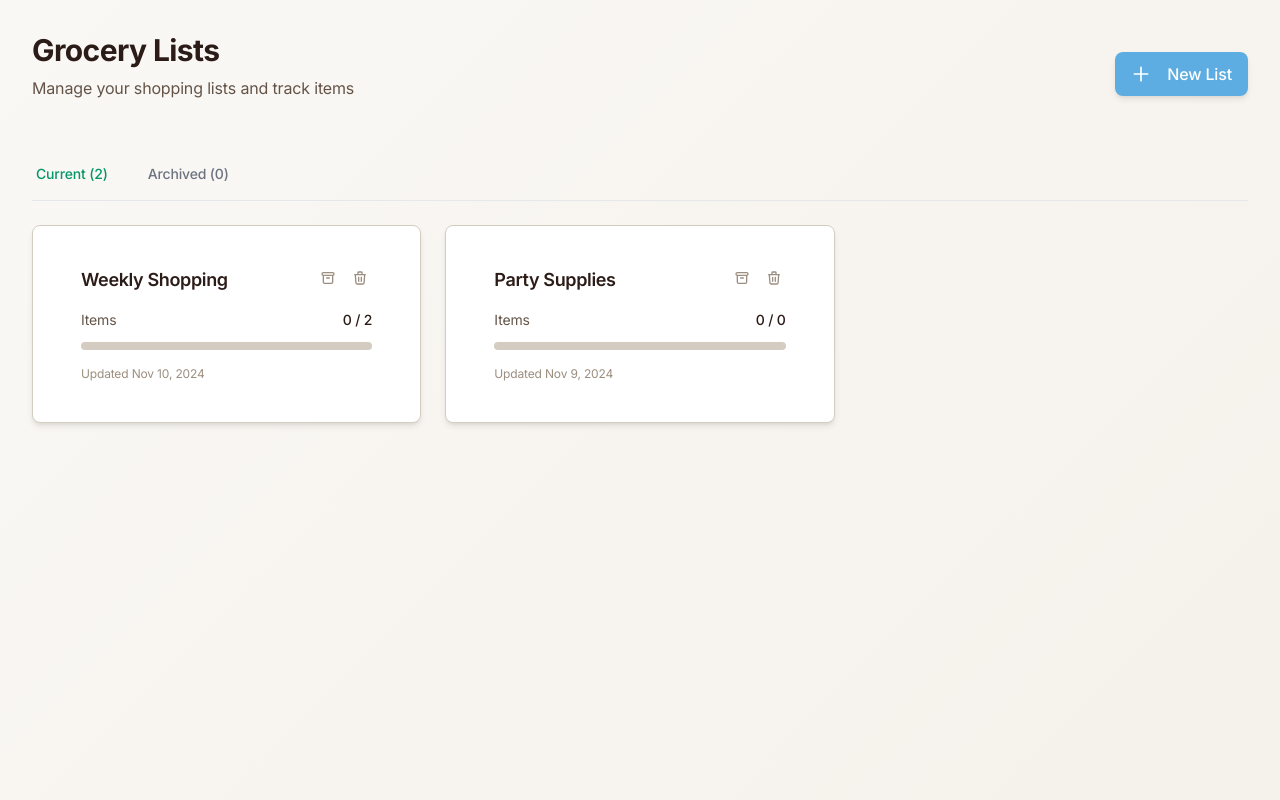
Test: GroceryListsPage › Delete functionality › should close confirmation modal when cancel is clicked
This screenshot has width=1280, height=800.
Expected: the heading "Grocery Lists" is shown, 32,32 -> 219,68
Expected: the heading "Weekly Shopping" is shown, 81,269 -> 228,290
Click the button named "delete list": [360, 278] box 348,266 -> 372,290
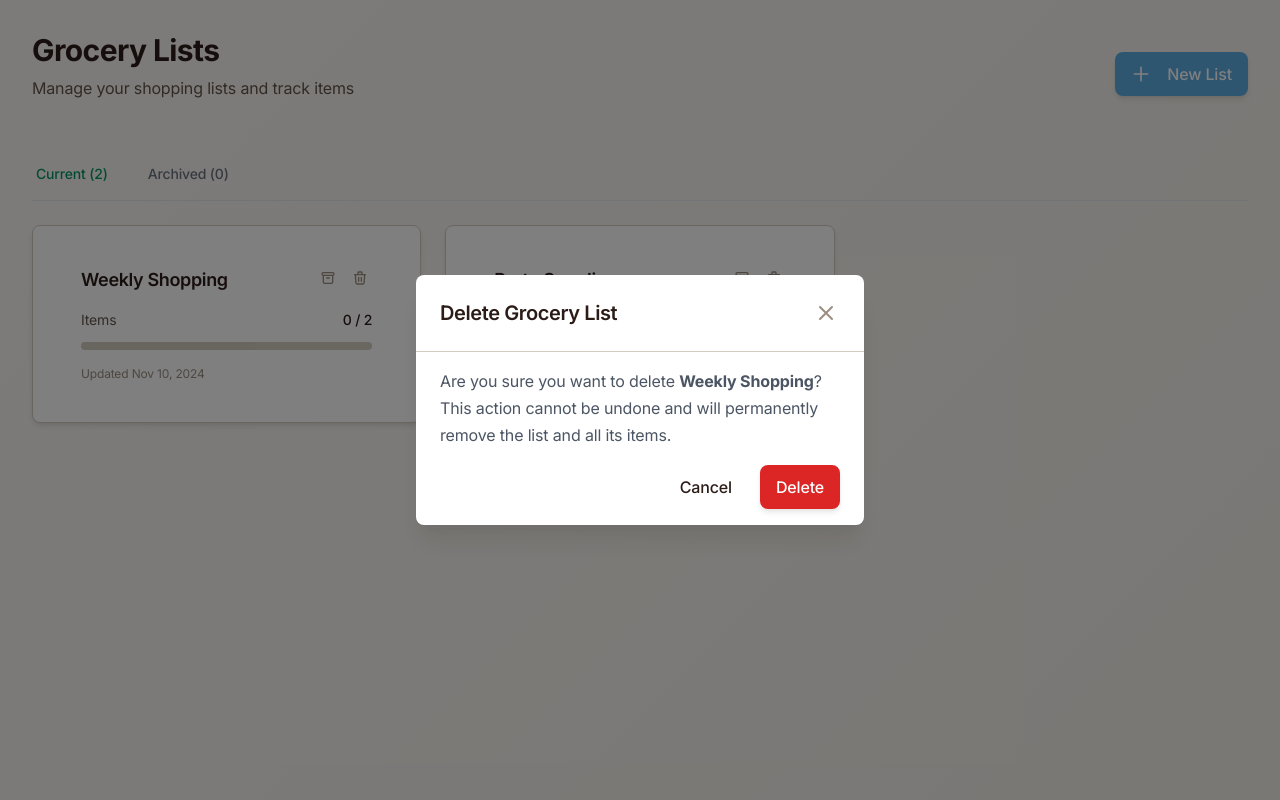
Expected: the heading "Delete Grocery List" is shown, 440,299 -> 617,327
Click cancel
Click the button "Cancel": [706, 487] box 664,465 -> 748,509
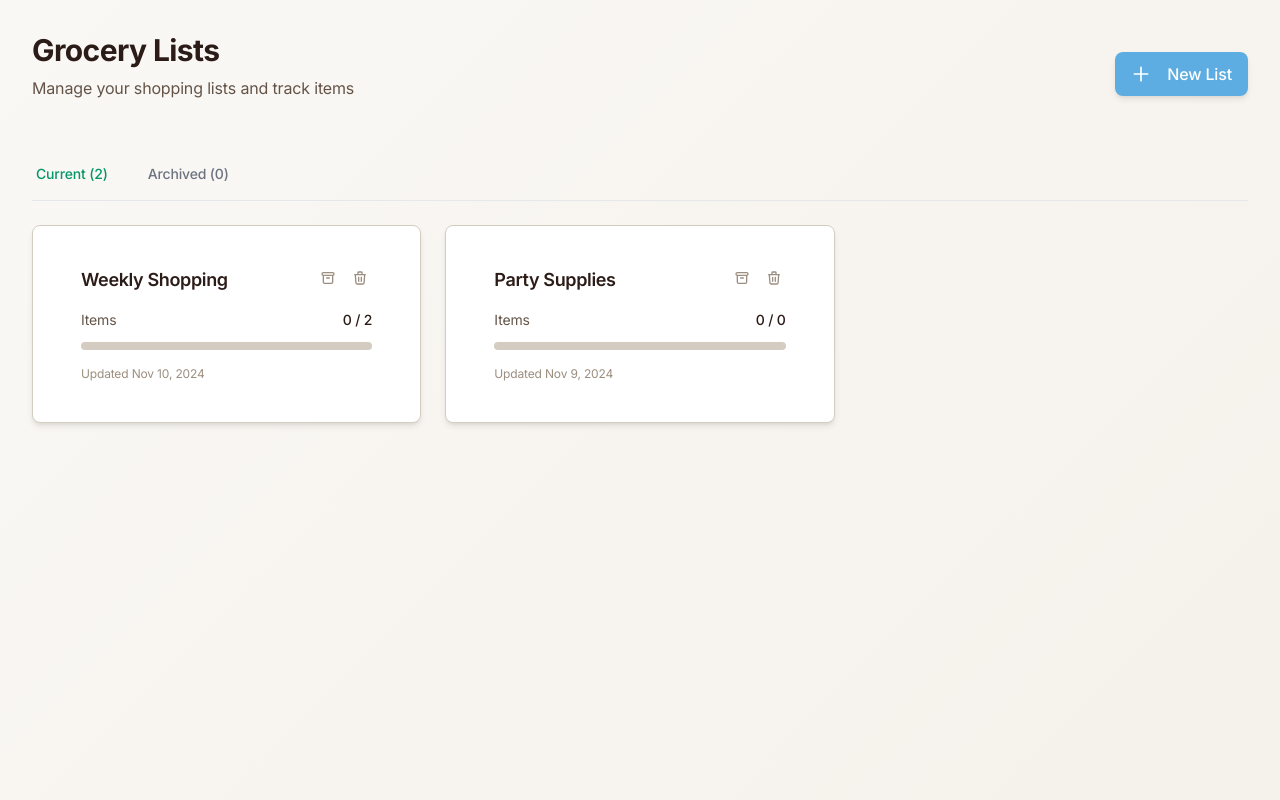
Expected: the heading "Delete Grocery List" is gone
